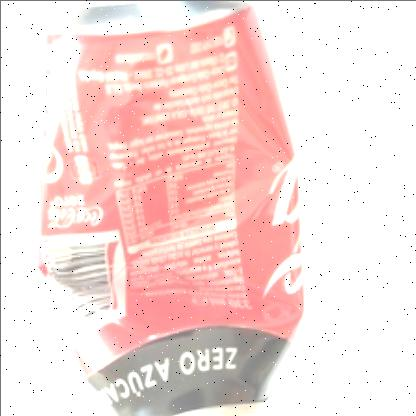Can: (37, 0, 302, 416)
